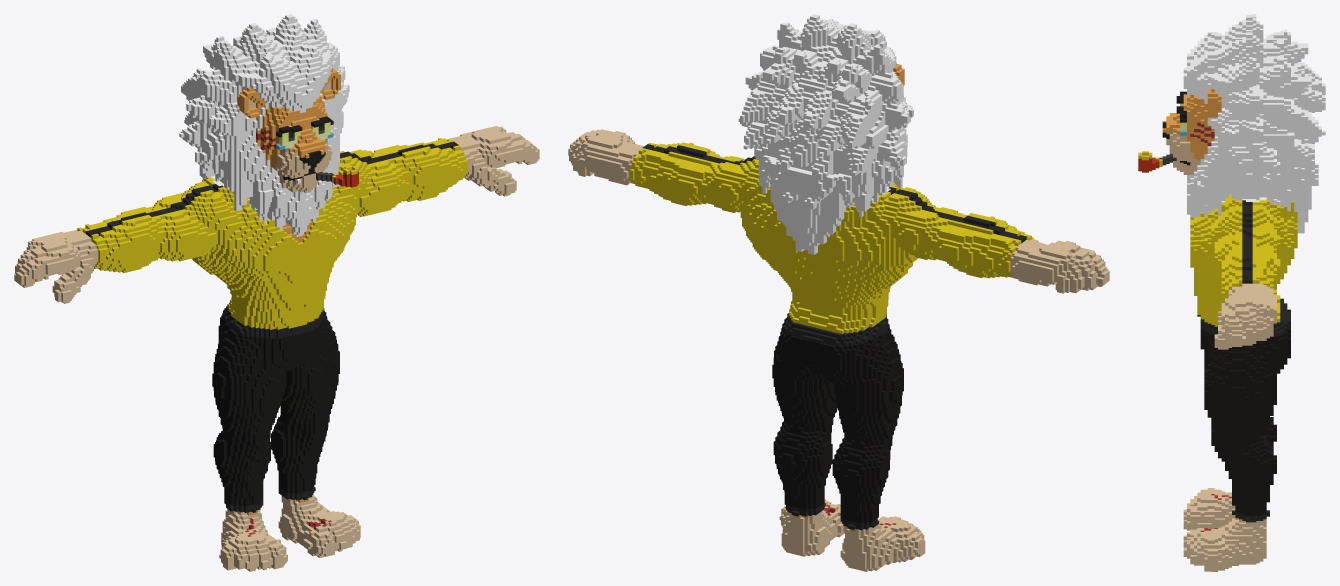
3 renders of one model, left to right at view 1: azimuth 30°, elevation 25°; view 2: azimuth 150°, elevation 25°; view 3: azimuth 270°, elevation 25°, orthographic. The views are drawn at different scales.
Visible parts, largest first — view 1: pipe; view 2: pipe; view 3: pipe.
Boxes of the visible parts, x1=… form: pipe: x1=14, y1=14, x2=539, y2=571; pipe: x1=568, y1=14, x2=1109, y2=571; pipe: x1=1138, y1=14, x2=1325, y2=571.
Size of the model in its own units: 17.2 by 16.5 by 5.4.
Materials: 5 (5 with a texture image).
